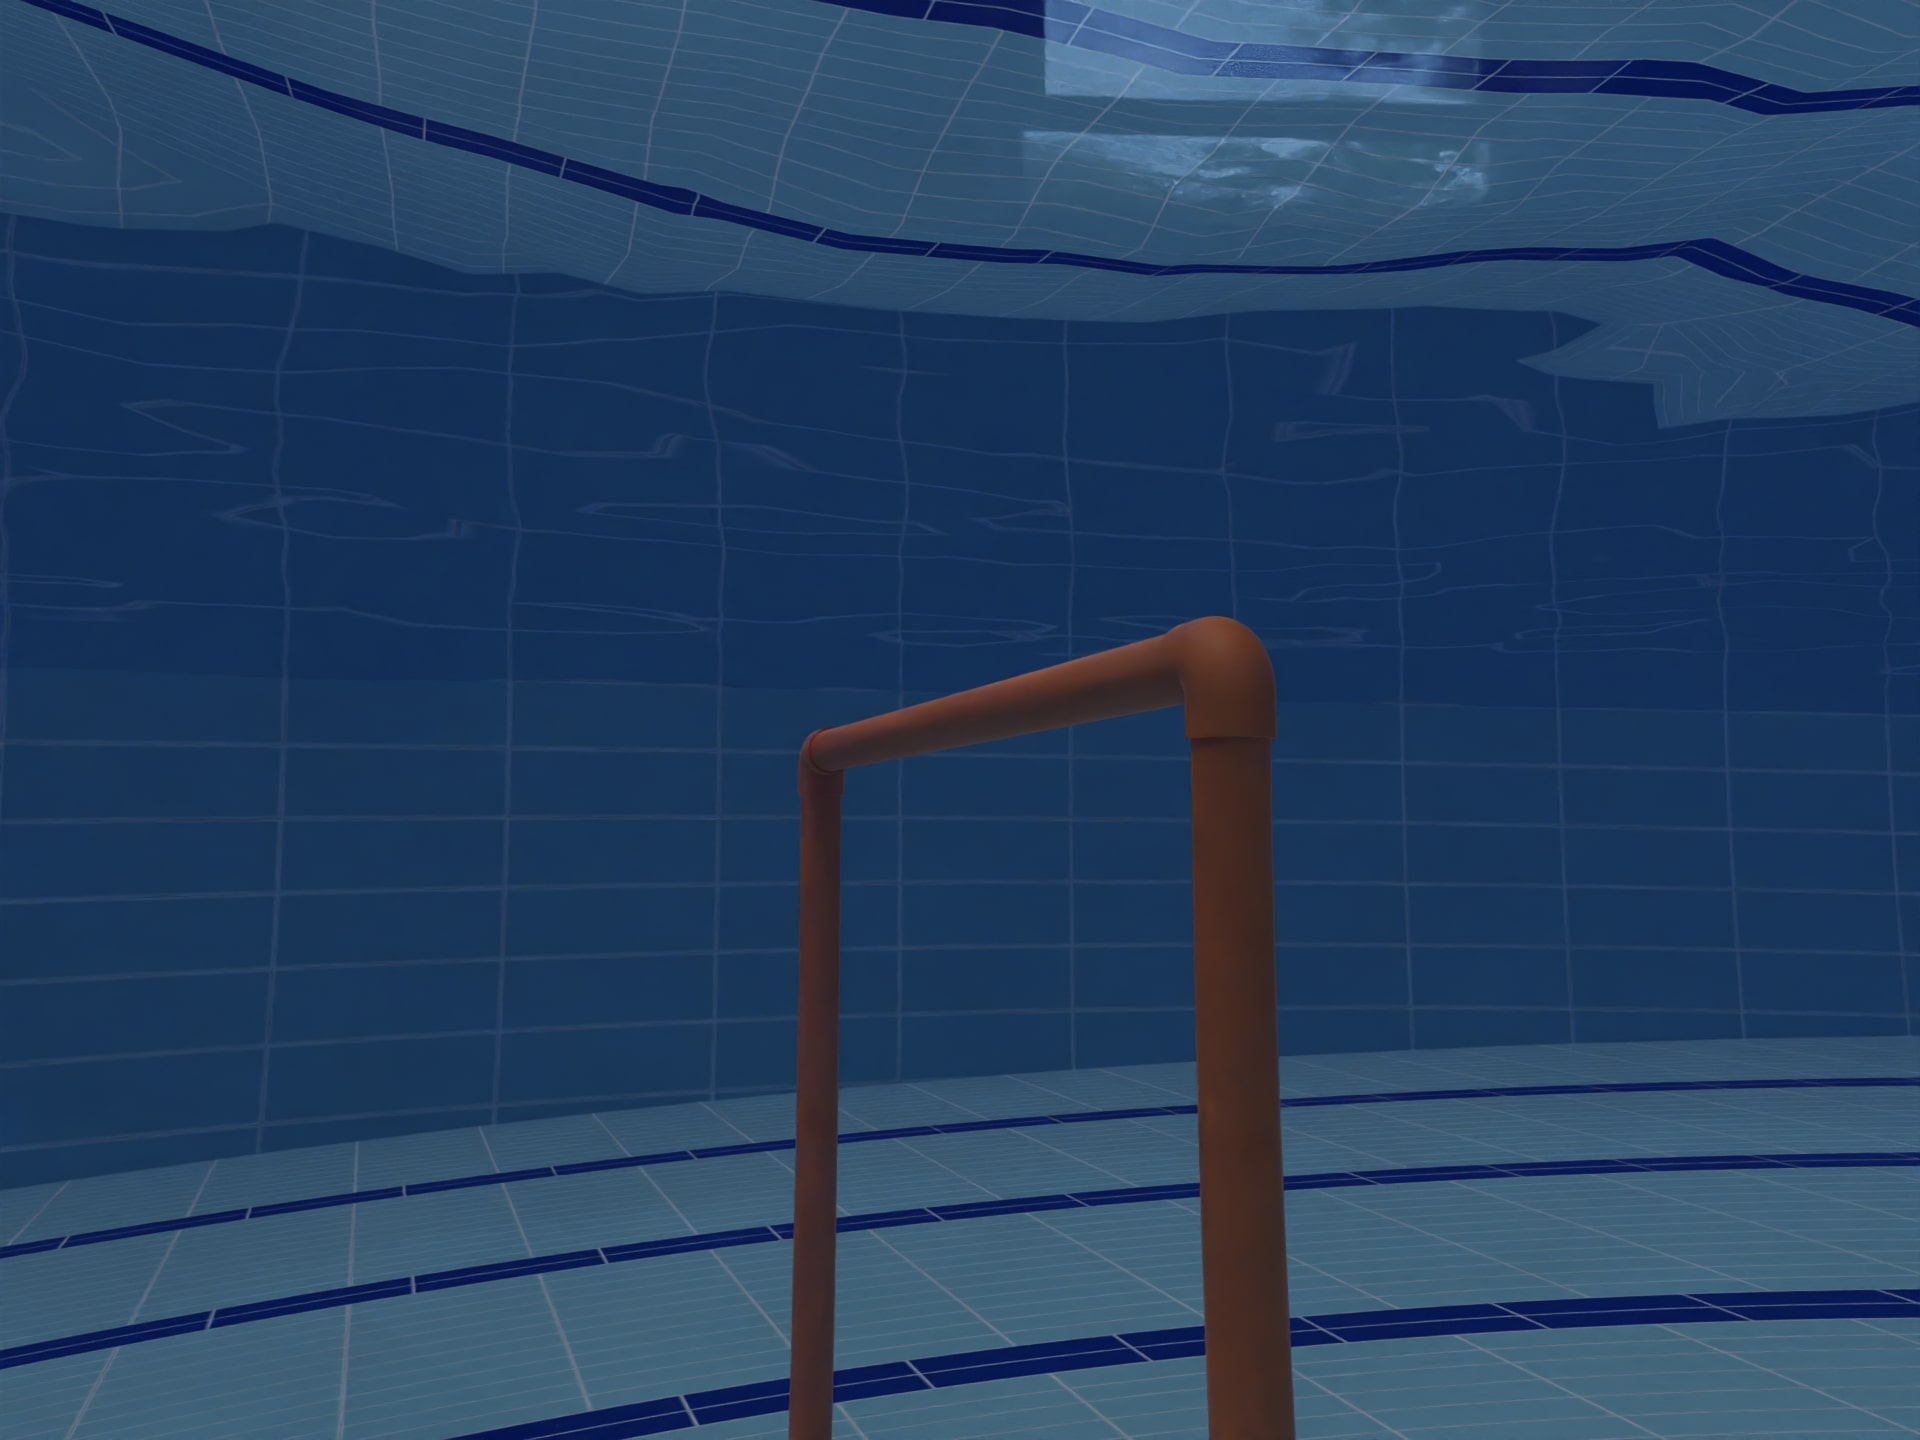gate: (751, 663, 1418, 1440)
